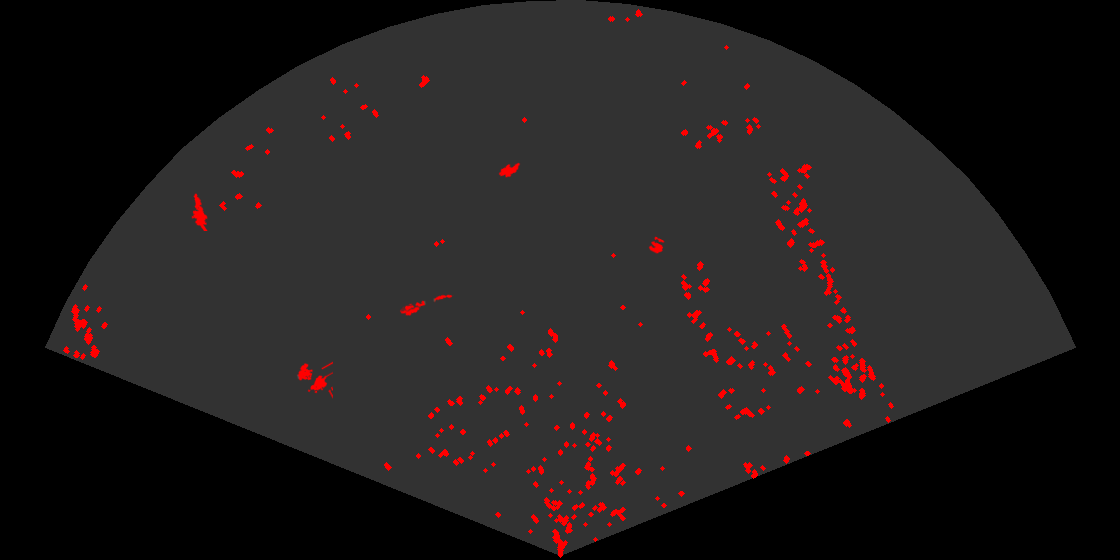AUV: (497, 161, 522, 179), (398, 302, 423, 317)
ball: (647, 235, 666, 255)
cage: (296, 360, 333, 400)
chain: (401, 293, 454, 312)
frogman: (190, 192, 209, 231)
